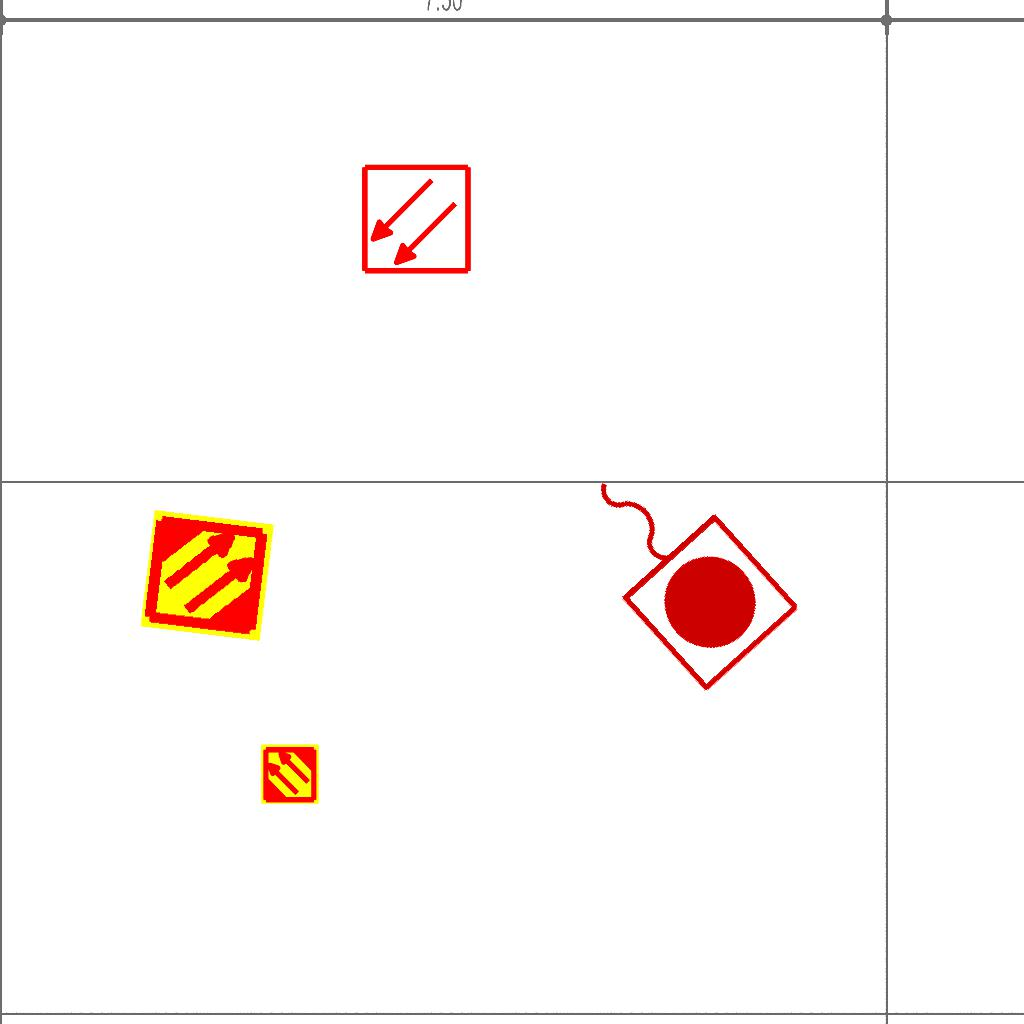ASR_Ansaugrauchmelder: (137, 505, 278, 646), (259, 743, 321, 805)
RMO_Rauchmelder_optischer: (360, 163, 473, 276)
Zugtaster: (542, 425, 814, 703)
